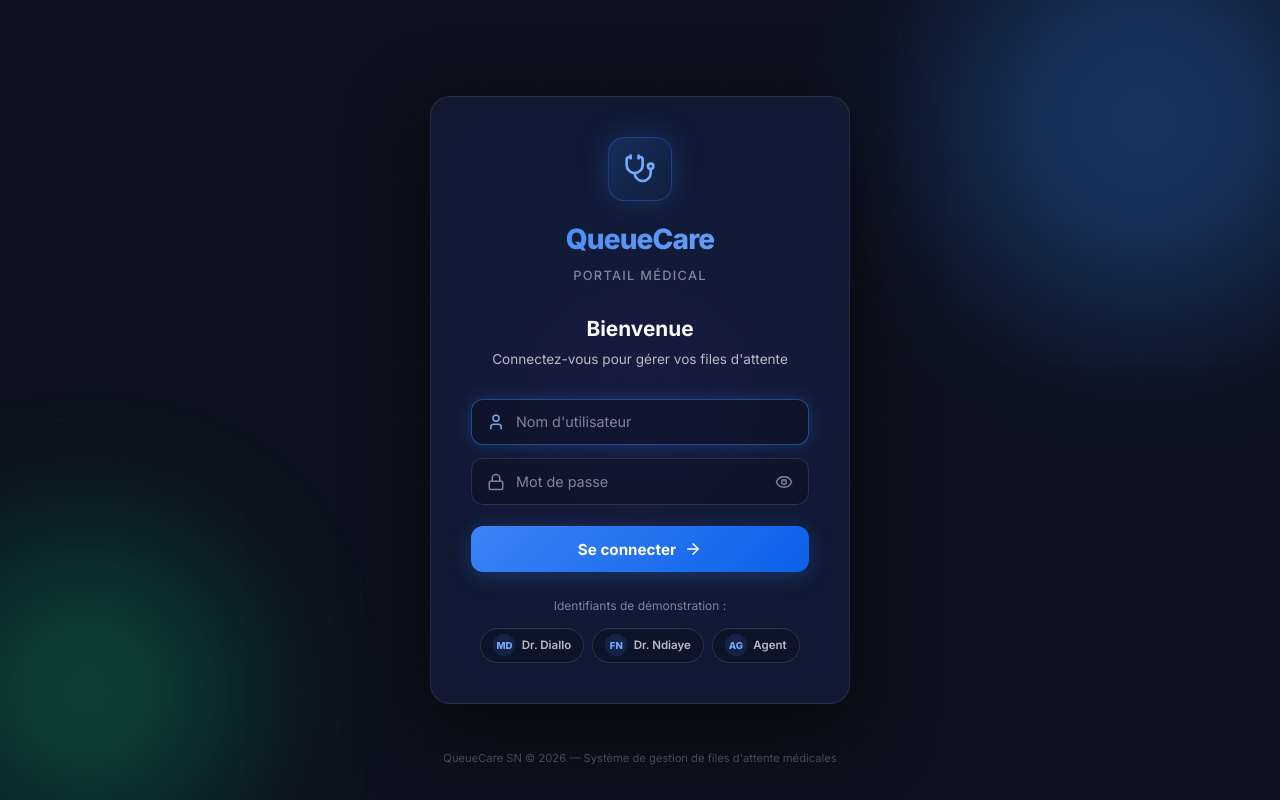
Scenario: LoginScreen › affiche une erreur en cas d'identifiants incorrects
Type "wrong" into the field with placeholder "Nom d'utilisateur".
click(640, 422); type("wrong")  # box [471,399,809,445]
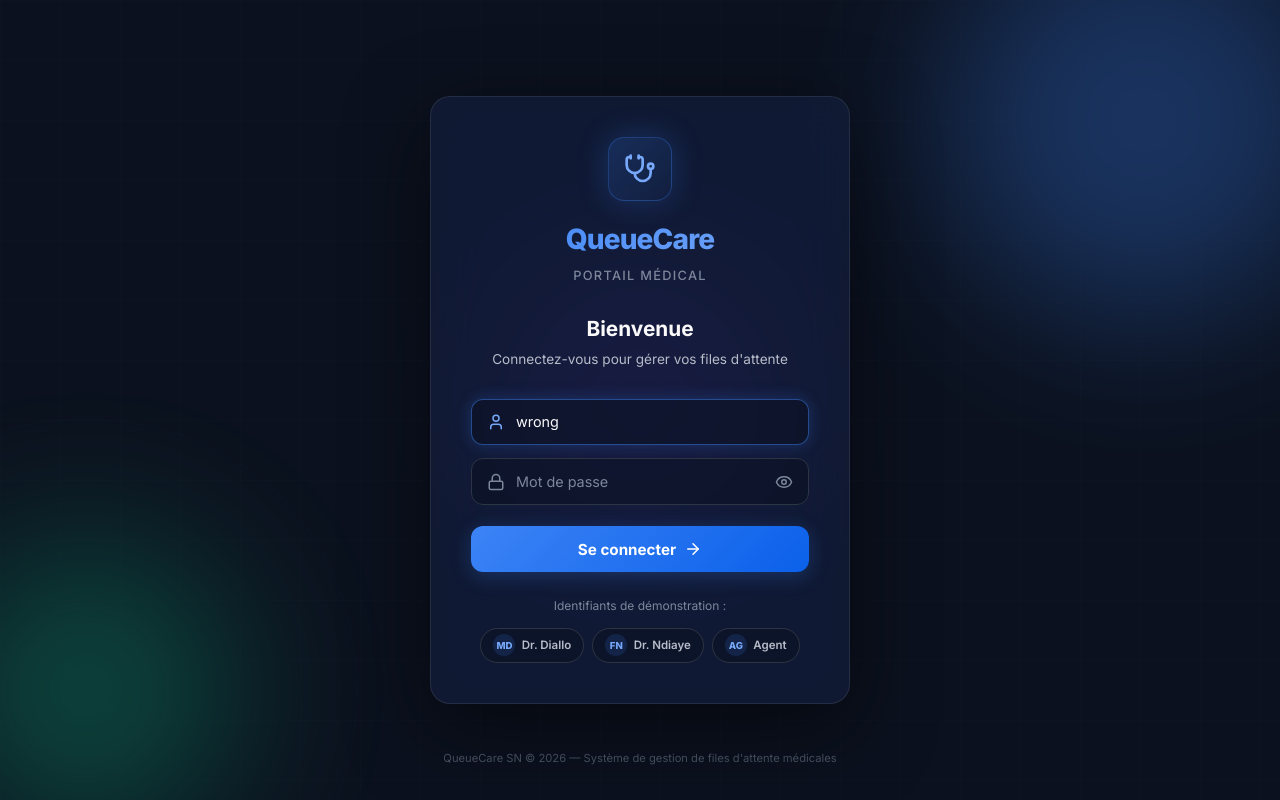
Type "wrong" into the password field with placeholder "Mot de passe".
click(640, 482); type("wrong")  # box [471,458,809,505]
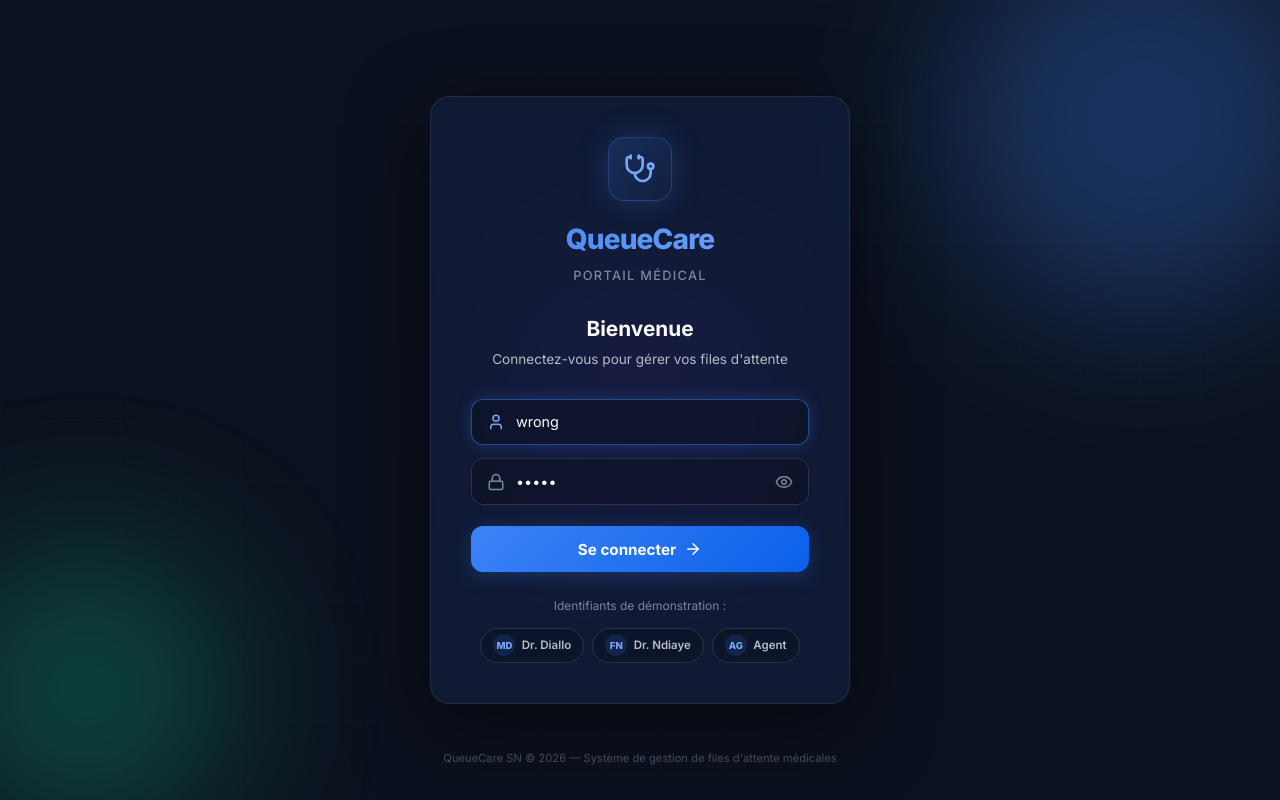
Click the button "Se connecter".
click(640, 549)  # box [471,526,809,572]
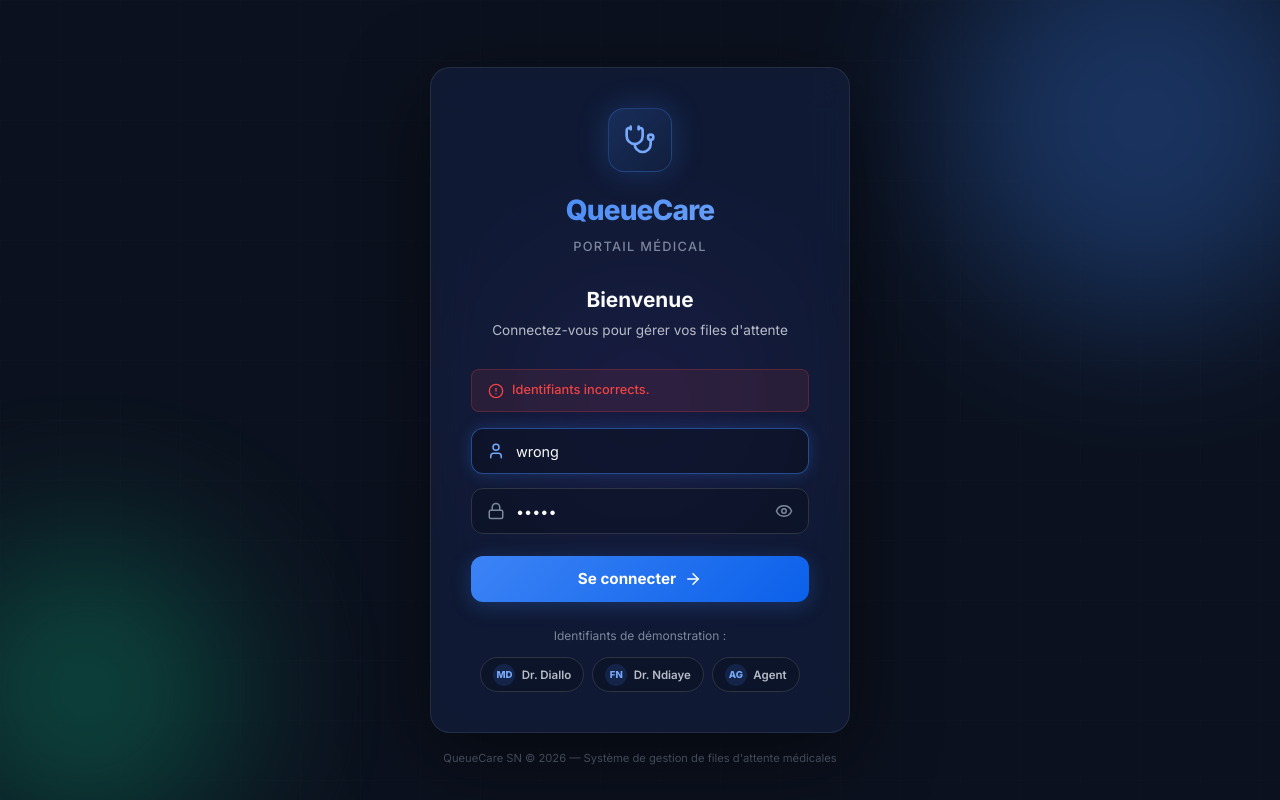
Now the text "Identifiants incorrects." is shown, box [512,380,650,401]
